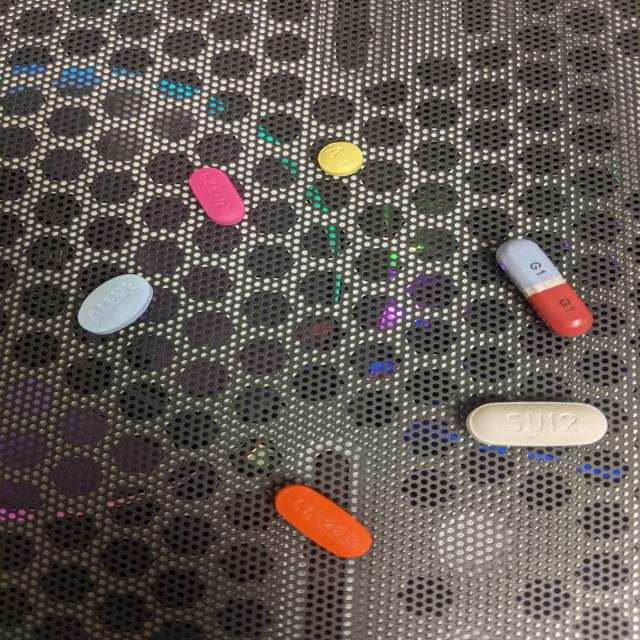non-organic waste: (494, 237, 594, 338), (273, 483, 372, 559), (464, 401, 609, 448), (76, 273, 154, 336), (188, 167, 247, 226), (318, 141, 364, 177)
